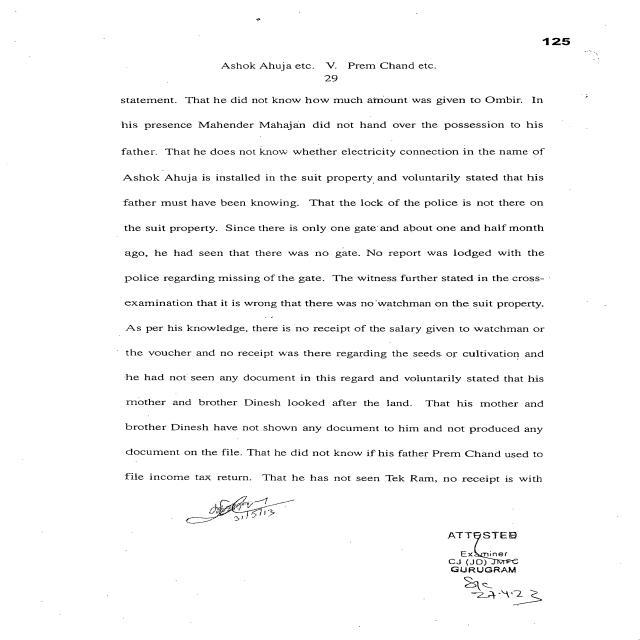page-number: (458, 0, 639, 62)
